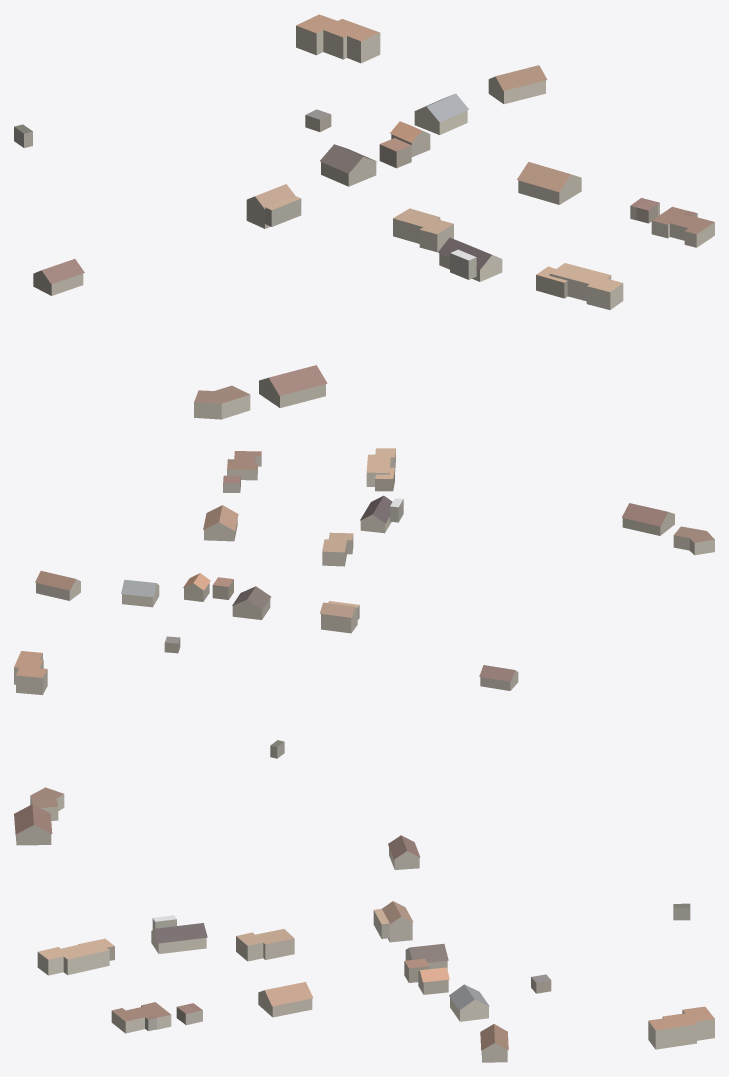
The picture shows the model from 3 angles, top to bottom: view 1: azimuth 30°, elevation 25°; view 2: azimuth 150°, elevation 25°; view 3: azimuth 270°, elevation 25°; orthographic projection. The views are drawn at different scales.
Parts seen in each view (by area): view 1: tuile; view 2: tuile; view 3: tuile.
Part boxes in pixels (box(x1,y1,x2,y2)): tuile: box(14, 14, 714, 419); tuile: box(14, 448, 714, 758); tuile: box(14, 787, 714, 1062).
Bounding box in the file's own units: 213 × 23.65 × 246.
